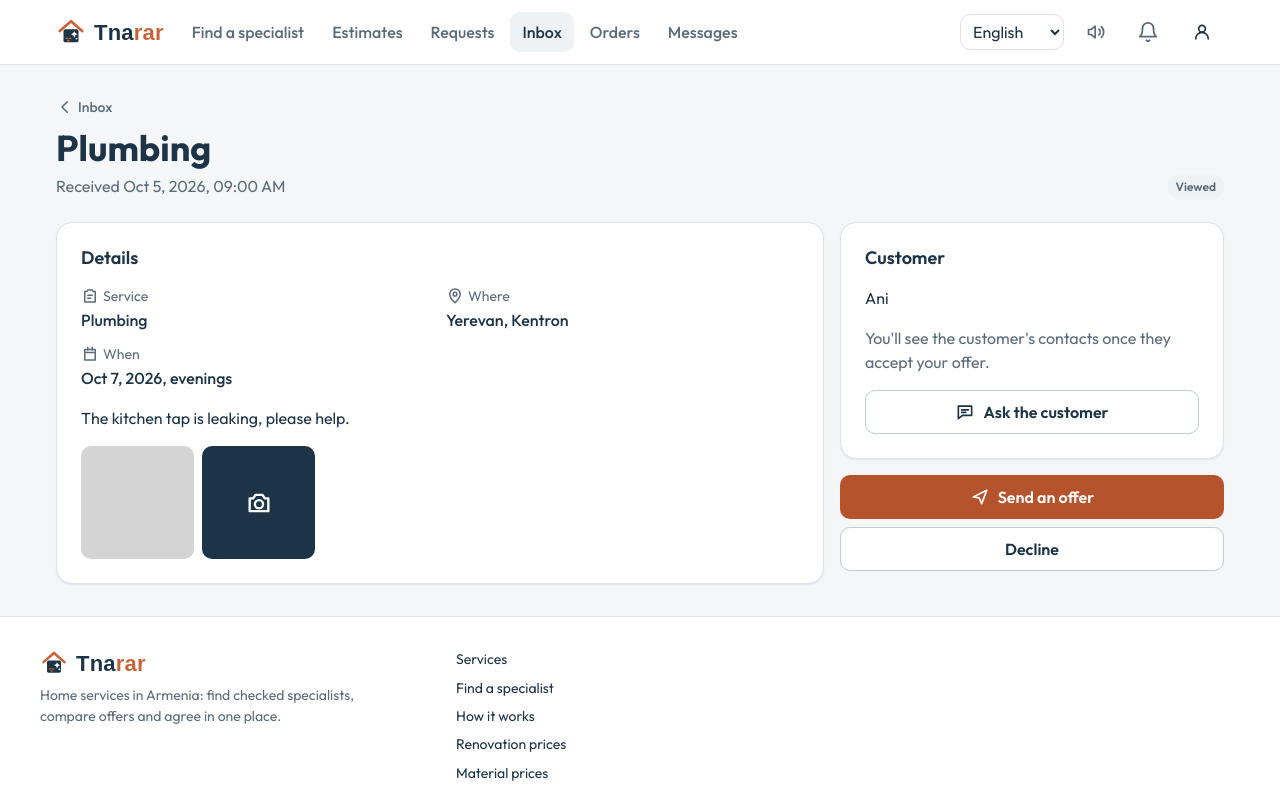
Messages › reports a failure to open a conversation on the button
Click the button "Ask the customer" at x=1032, y=412, box [865, 390, 1199, 434]
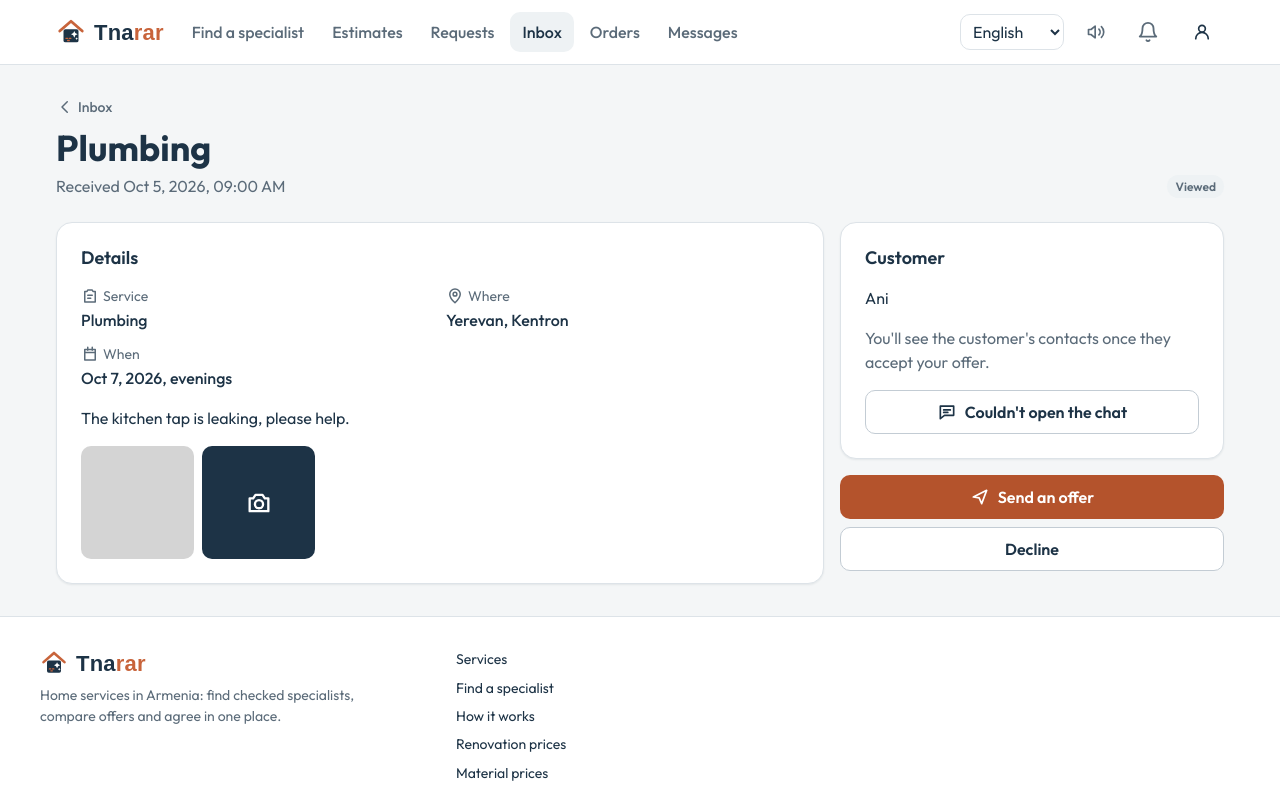
expect the button "Couldn't open the chat" is shown: met, box [865, 390, 1199, 434]
